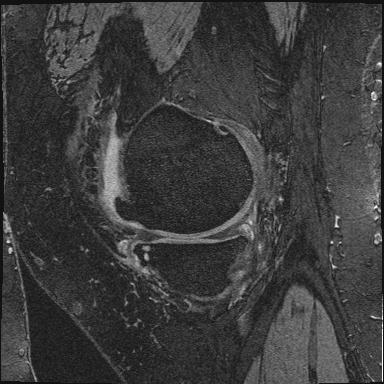effusion: (104, 140, 123, 198)
